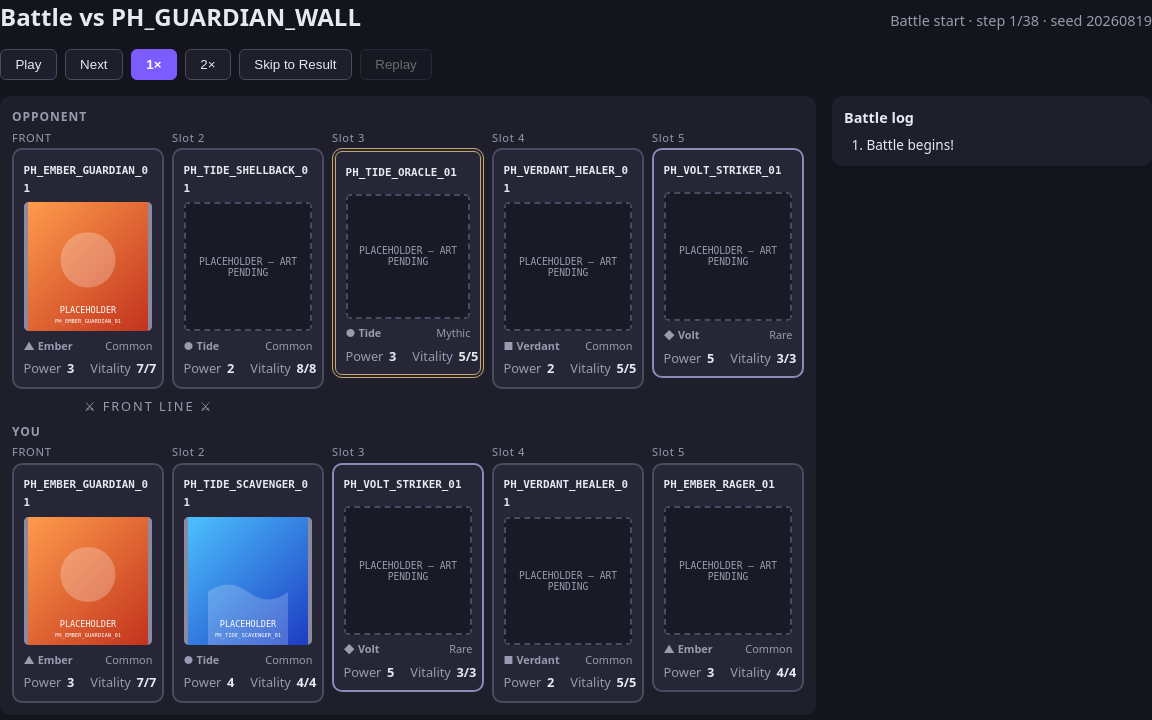
Test case: BattleScreen › steps with Next, and 1×/2× expose pressed state
Click the button "2×" at (208, 65), box [185,49,231,80]
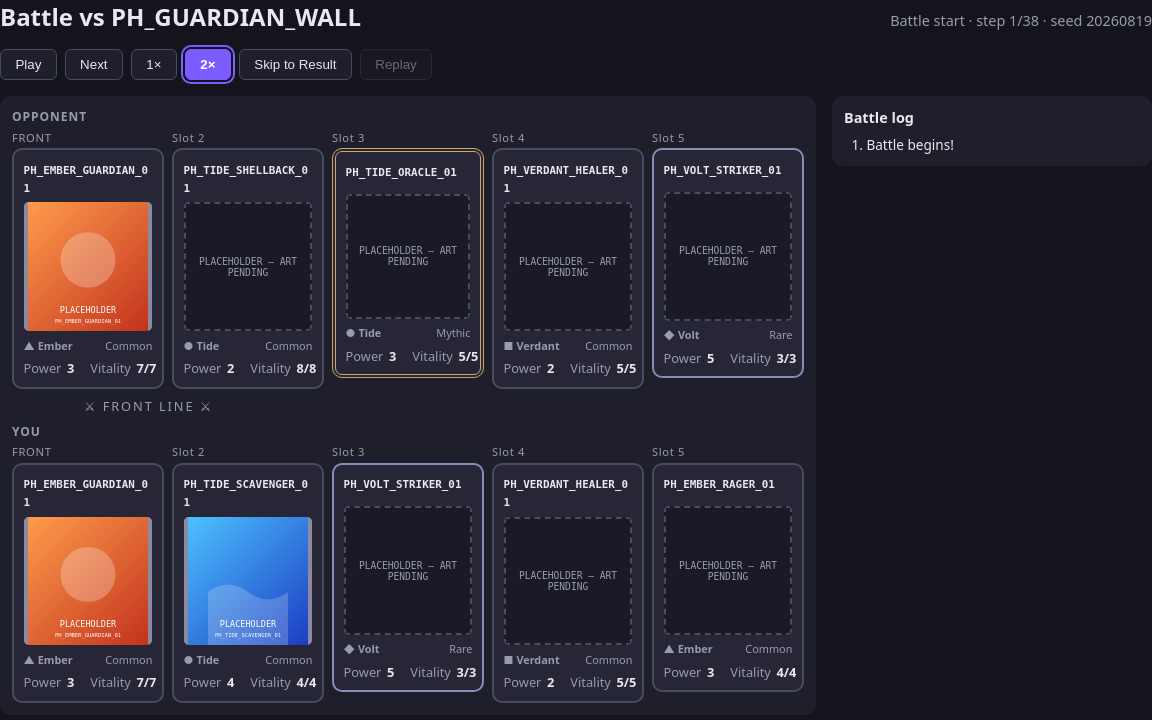
Expected: the text "Battle start · step 1/38 · seed 20260819" is shown, [890,11,1151,30]
Expected: the button "2×" is pressed, [185,49,231,80]
Click the button "Next" at (94, 65), box [65,49,123,80]
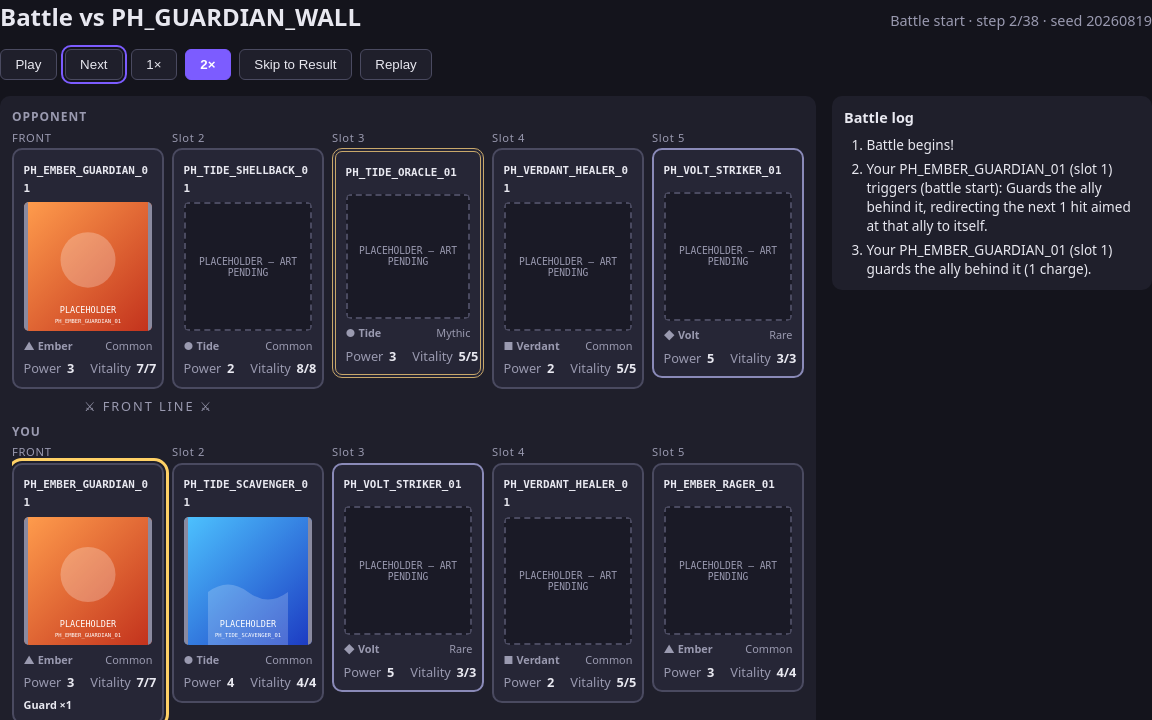
Expected: the text "Battle start · step 2/38 · seed 20260819" is shown, [890,11,1151,30]
